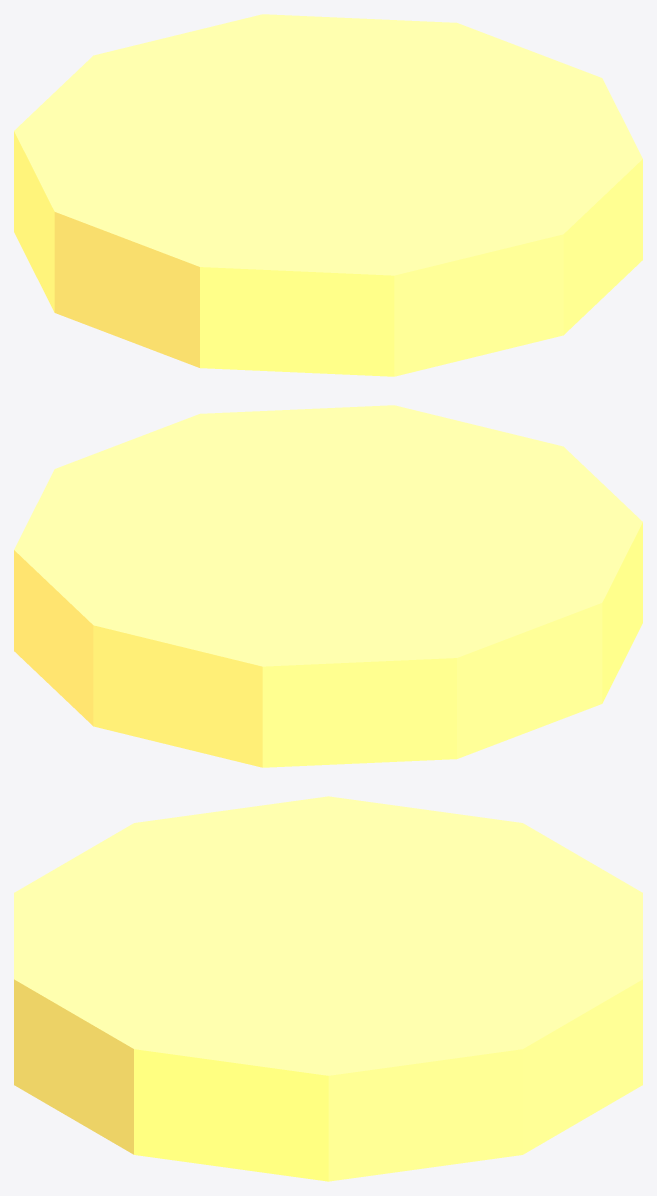
Rendered from coin.gltf.
3 views of the same model, one above another, from view 1: azimuth 30°, elevation 25°; view 2: azimuth 150°, elevation 25°; view 3: azimuth 270°, elevation 25° (orthographic). The views are drawn at different scales.
Visible parts, largest first — view 1: wildlands-prop; view 2: wildlands-prop; view 3: wildlands-prop.
Boxes of the visible parts, x1,y1,x2,y2 form: wildlands-prop: (14,14,642,376); wildlands-prop: (14,405,642,767); wildlands-prop: (14,796,642,1181).
Bounding box in the file's own units: 0.68 × 0.12 × 0.6467.
